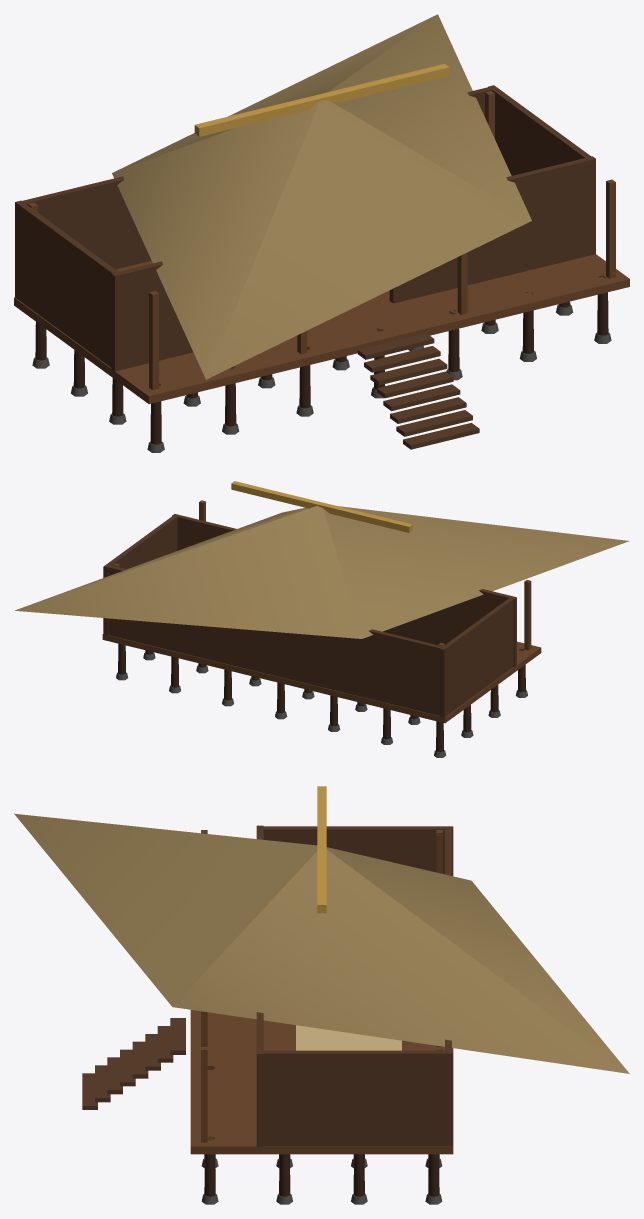
The model's file is jew-asmat.glb.
3 renders of one model, top to bottom at view 1: azimuth 30°, elevation 25°; view 2: azimuth 150°, elevation 25°; view 3: azimuth 270°, elevation 25°, orthographic. The views are drawn at different scales.
Parts seen in each view (by area): view 1: ROOF_SYSTEM, WALL_SYSTEM, FLOOR_SYSTEM, STRUCTURAL_COLUMNS, ENTRANCE_STAIRS, FOUNDATION_SYSTEM; view 2: ROOF_SYSTEM, WALL_SYSTEM, STRUCTURAL_COLUMNS, FLOOR_SYSTEM, FOUNDATION_SYSTEM; view 3: ROOF_SYSTEM, WALL_SYSTEM, FLOOR_SYSTEM, ENTRANCE_STAIRS, STRUCTURAL_COLUMNS, INTERIOR_MAT, FOUNDATION_SYSTEM.
Part boxes in pixels (left/top/right/bottom): ROOF_SYSTEM: left=112, top=14, right=531, bottom=379; WALL_SYSTEM: left=15, top=85, right=595, bottom=371; FLOOR_SYSTEM: left=14, top=254, right=629, bottom=403; STRUCTURAL_COLUMNS: left=28, top=91, right=615, bottom=444; ENTRANCE_STAIRS: left=357, top=333, right=479, bottom=449; FOUNDATION_SYSTEM: left=32, top=304, right=611, bottom=452; ROOF_SYSTEM: left=15, top=481, right=629, bottom=638; WALL_SYSTEM: left=103, top=514, right=516, bottom=717; STRUCTURAL_COLUMNS: left=112, top=500, right=531, bottom=752; FLOOR_SYSTEM: left=102, top=634, right=541, bottom=723; FOUNDATION_SYSTEM: left=116, top=652, right=527, bottom=757; ROOF_SYSTEM: left=14, top=786, right=629, bottom=1073; WALL_SYSTEM: left=256, top=825, right=453, bottom=1146; FLOOR_SYSTEM: left=190, top=1010, right=453, bottom=1154; ENTRANCE_STAIRS: left=82, top=1018, right=185, bottom=1109; STRUCTURAL_COLUMNS: left=201, top=830, right=442, bottom=1196; INTERIOR_MAT: left=296, top=1025, right=401, bottom=1050; FOUNDATION_SYSTEM: left=201, top=1158, right=442, bottom=1204.
Size of what is drawn, in the model's own units: 15.97 by 7.15 by 15.97.
